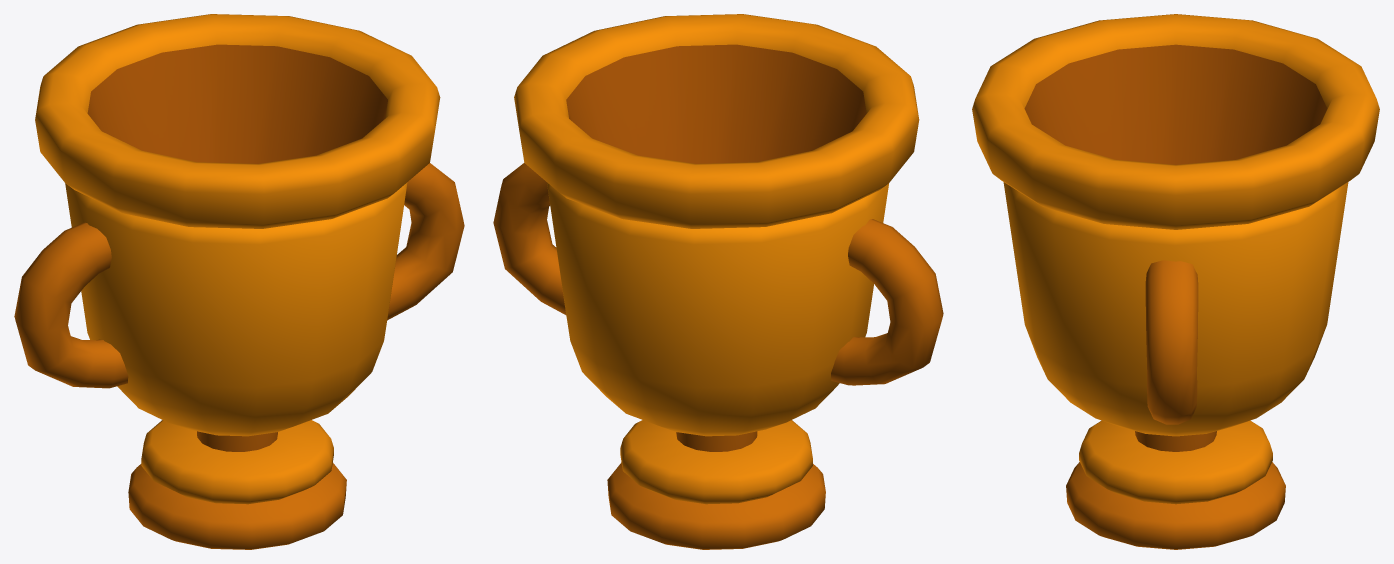
The model's file is Trophy_V3_0.fbx.
3 renders of one model, left to right at view 1: azimuth 30°, elevation 25°; view 2: azimuth 150°, elevation 25°; view 3: azimuth 270°, elevation 25°, orthographic.
Visible parts, largest first — view 1: Trophy_V3_0; view 2: Trophy_V3_0; view 3: Trophy_V3_0.
Boxes of the visible parts, x1,y1,x2,y2 form: Trophy_V3_0: (14,14,464,549); Trophy_V3_0: (493,14,943,549); Trophy_V3_0: (972,14,1379,549).
Bounding box in the file's own units: 0.4706 × 0.4225 × 0.3783.
